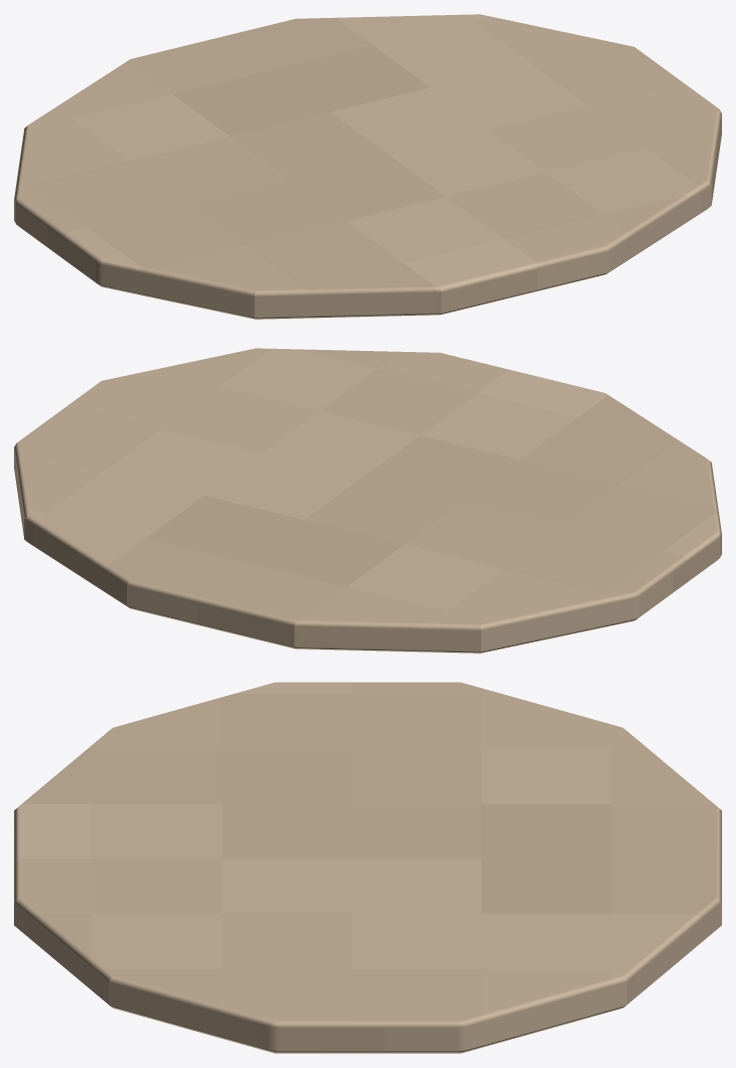
File: Base-seam.glb
3 renders of one model, top to bottom at view 1: azimuth 30°, elevation 25°; view 2: azimuth 150°, elevation 25°; view 3: azimuth 270°, elevation 25°, orthographic. The views are drawn at different scales.
Visible parts, largest first — view 1: Base-seam; view 2: Base-seam; view 3: Base-seam.
Part boxes in pixels (<box>): Base-seam: <box>14,14,721,319</box>; Base-seam: <box>14,348,721,653</box>; Base-seam: <box>14,682,721,1053</box>.
Size of the model in its own units: 0.2434 by 0.011 by 0.2125.
1 material, 1 textured.
